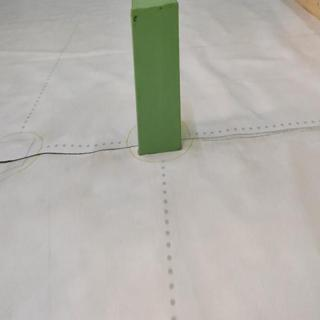greenbox: (128, 1, 185, 156)
